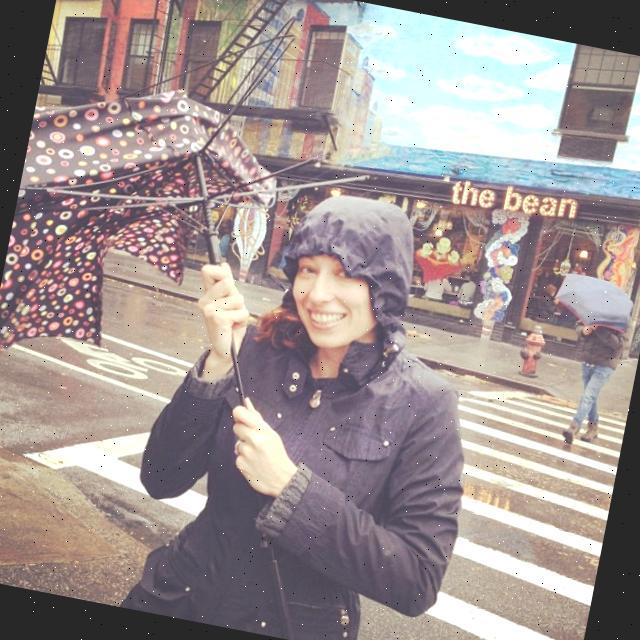fire_hydrant: (515, 322, 548, 378)
